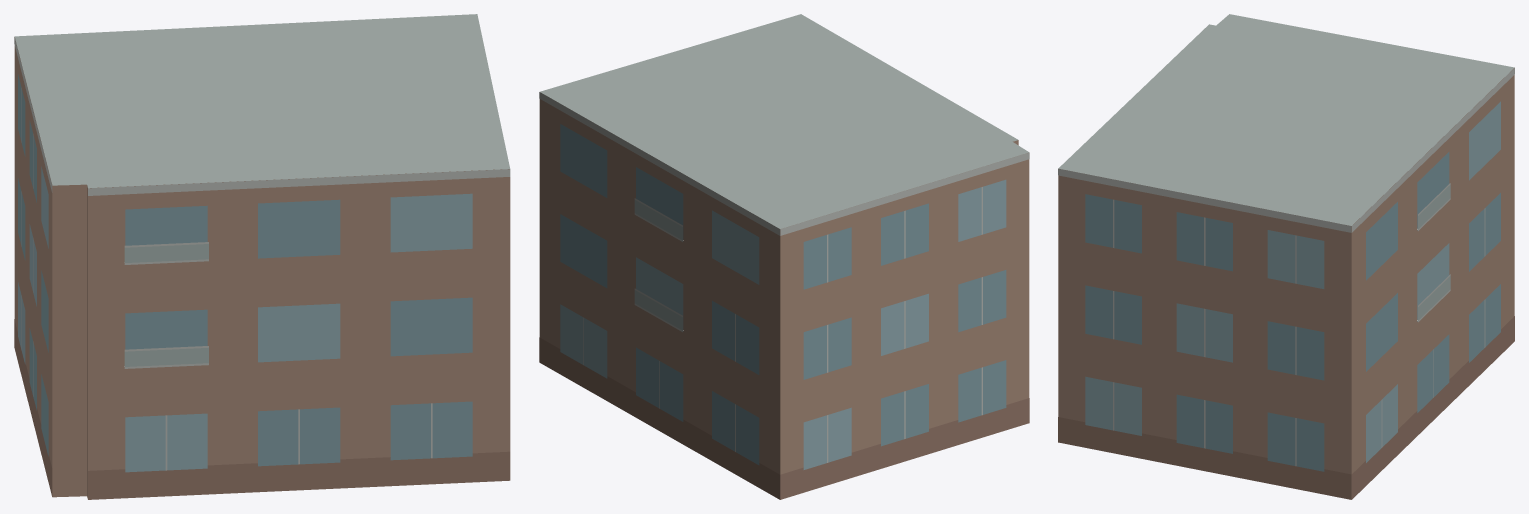
The model's file is survey-upis-32803052.glb.
The picture shows the model from 3 angles, left to right: view 1: azimuth 30°, elevation 25°; view 2: azimuth 150°, elevation 25°; view 3: azimuth 270°, elevation 25°; orthographic projection. The views are drawn at different scales.
Visible parts, largest first — view 1: survey-upis-32803052.tmp; view 2: survey-upis-32803052.tmp; view 3: survey-upis-32803052.tmp.
Part boxes in pixels (bbox=[...]): survey-upis-32803052.tmp: bbox=[14, 14, 510, 499]; survey-upis-32803052.tmp: bbox=[539, 14, 1029, 499]; survey-upis-32803052.tmp: bbox=[1058, 14, 1514, 499].
Bounding box in the file's own units: 16.12 × 9.7 × 14.67.
